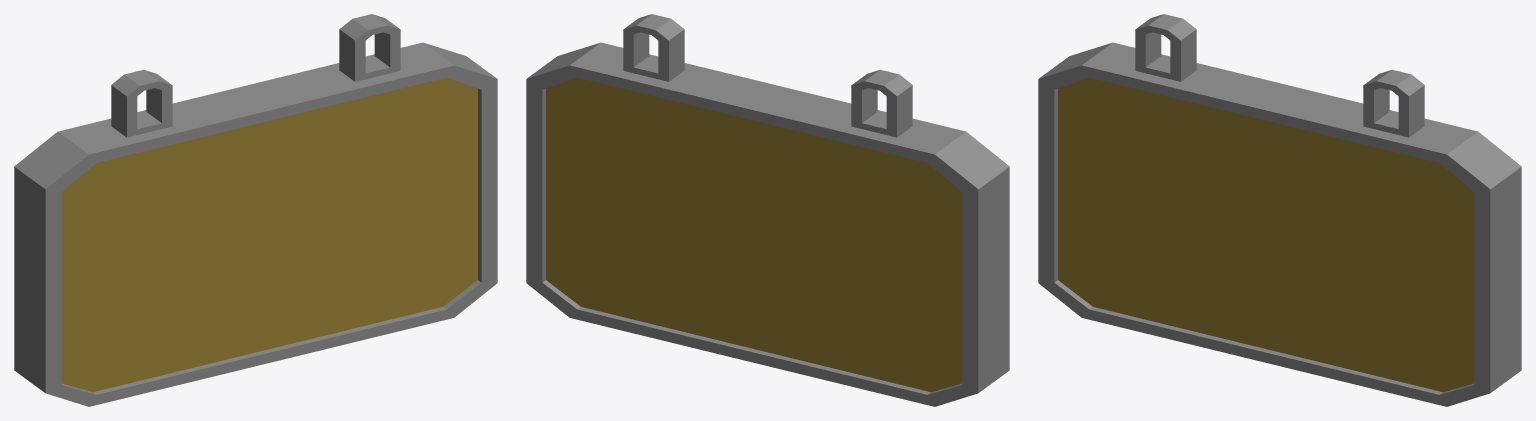
The model's file is Test Rustic Sign.fbx.
3 views of the same model, side by side, from view 1: azimuth 30°, elevation 25°; view 2: azimuth 150°, elevation 25°; view 3: azimuth 330°, elevation 25° (orthographic).
Parts seen in each view (by area): view 1: Cube; view 2: Cube; view 3: Cube.
Boxes of the visible parts, box(x1,y1,x2,y2) form: Cube: box(14, 14, 497, 406); Cube: box(526, 14, 1009, 406); Cube: box(1038, 14, 1521, 406).
Bounding box in the file's own units: 195 × 124 × 23.4.
